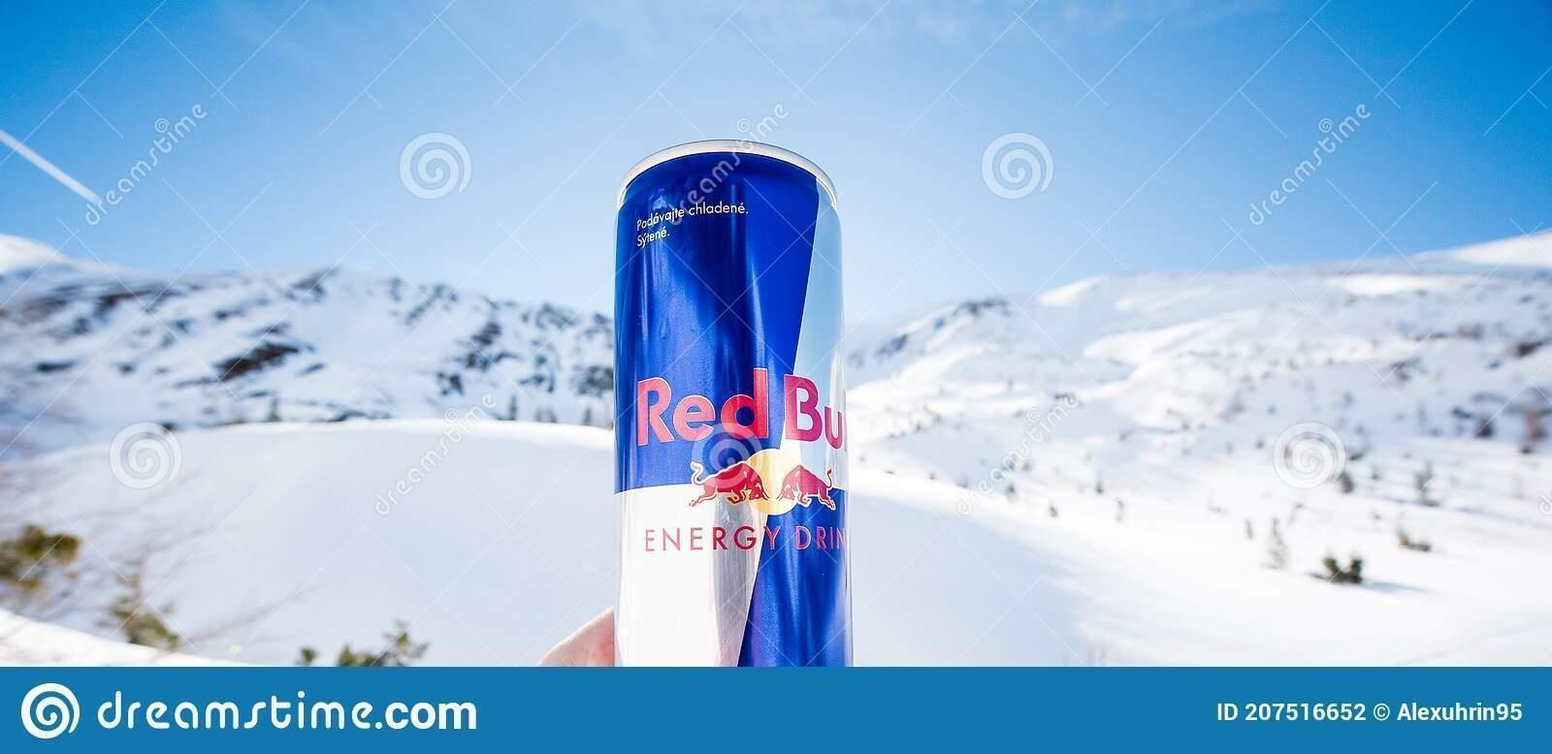tin can: (608, 135, 855, 665)
